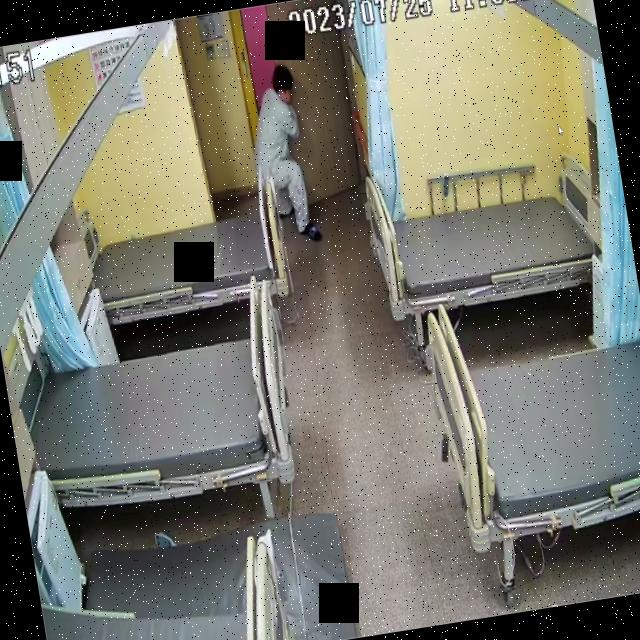bed: (419, 274, 640, 550), (18, 324, 302, 516), (364, 168, 614, 322), (88, 198, 290, 324)
danger: (240, 65, 324, 248)
patient: (240, 75, 323, 248)
